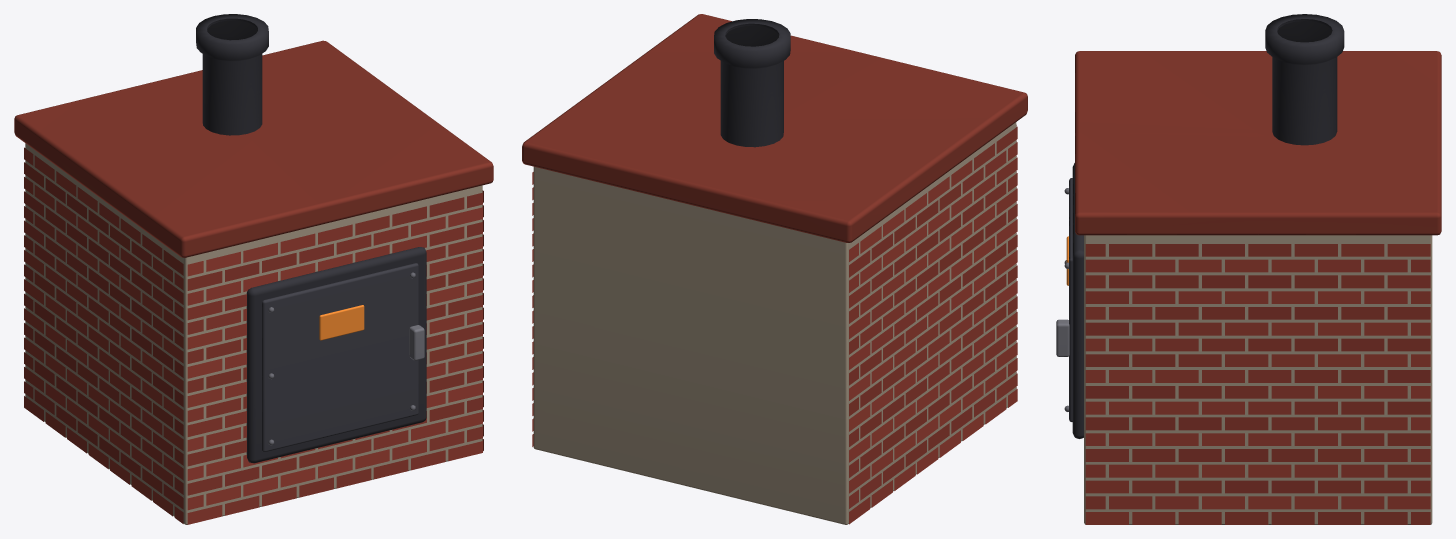
Rendered from furn_kiln.glb.
3 renders of one model, left to right at view 1: azimuth 30°, elevation 25°; view 2: azimuth 150°, elevation 25°; view 3: azimuth 270°, elevation 25°, orthographic. The views are drawn at different scales.
Parts seen in each view (by area): view 1: furn_kiln_main, furn_kiln_glow; view 2: furn_kiln_main; view 3: furn_kiln_main.
Part boxes in pixels (x1,y1,x2,y2): furn_kiln_main: (14,14,493,524); furn_kiln_glow: (319,305,364,340); furn_kiln_main: (522,14,1027,524); furn_kiln_main: (1056,14,1441,524).
Size of the model in its own units: 1.68 by 1.98 by 1.66.
